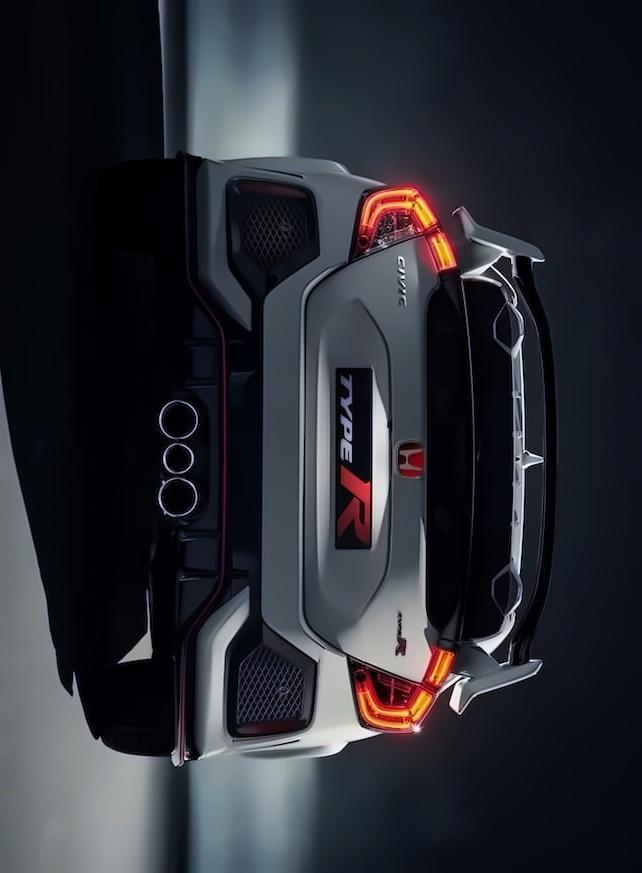Car boot: (273, 214, 554, 682)
Rear bumper: (129, 141, 368, 767)
Rear light - -L-: (340, 184, 464, 282)
Rear light - -R-: (340, 649, 464, 739)
